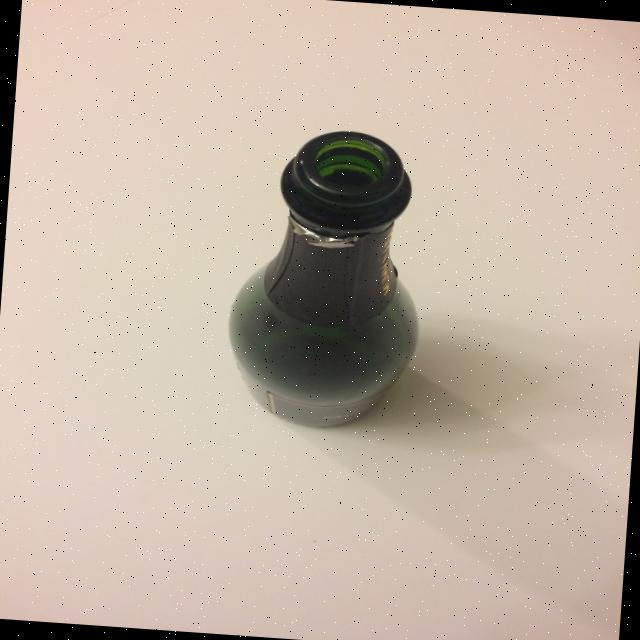glass: (221, 122, 434, 434)
